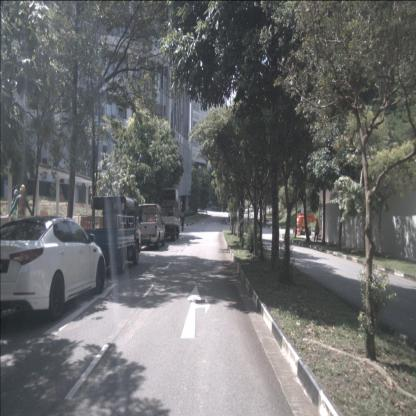human-pedestrian-adult: (180, 214, 185, 232)
vehicle-car: (0, 215, 106, 322)
vehicle-truck: (77, 195, 141, 274), (132, 203, 166, 250), (154, 188, 180, 241)
